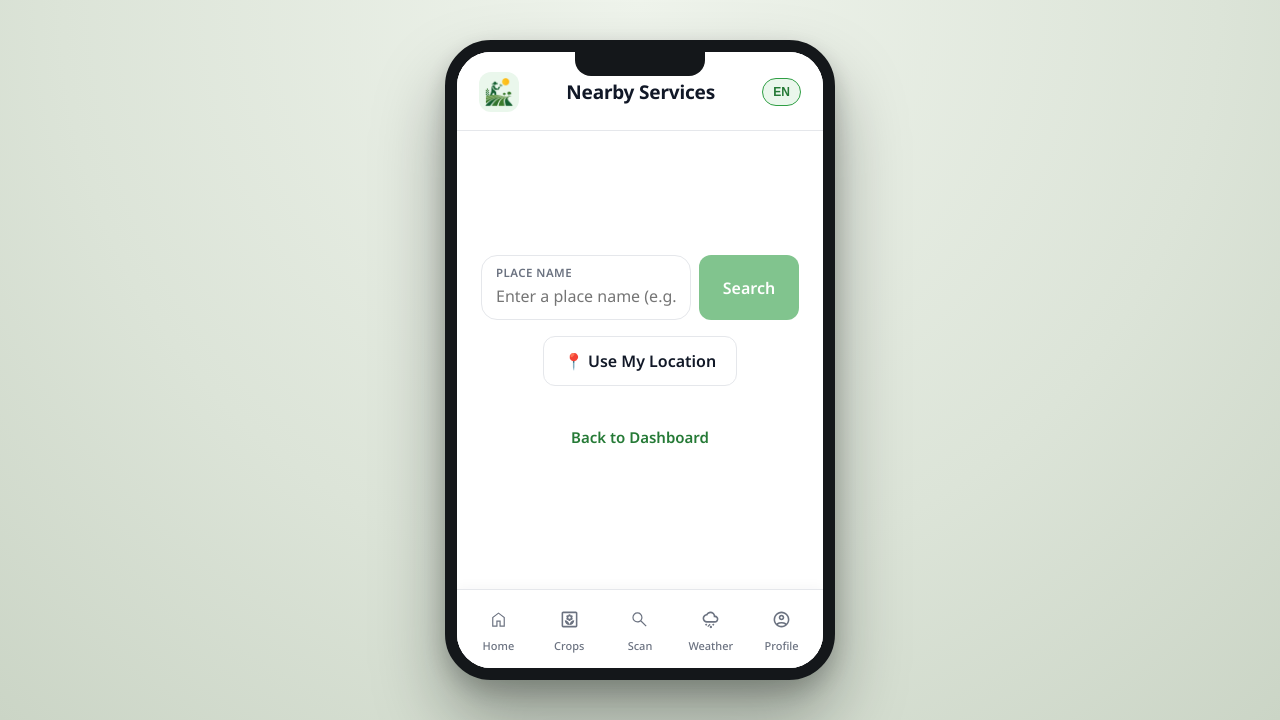
Test: LocatorPage › shows a plain-language message when location permission is denied
Click the button "📍 Use My Location": [640, 361] box [543,336,737,386]
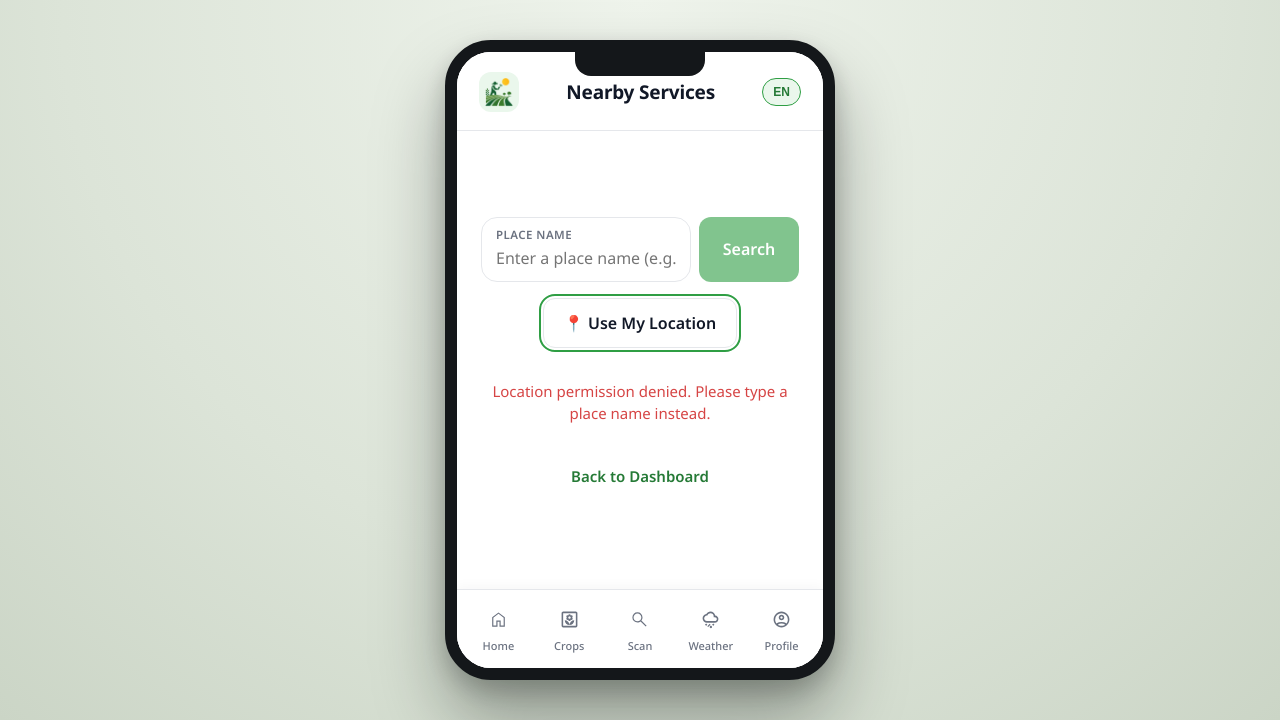
Now the message shows "Location permission denied", box [492,381,788,423]
